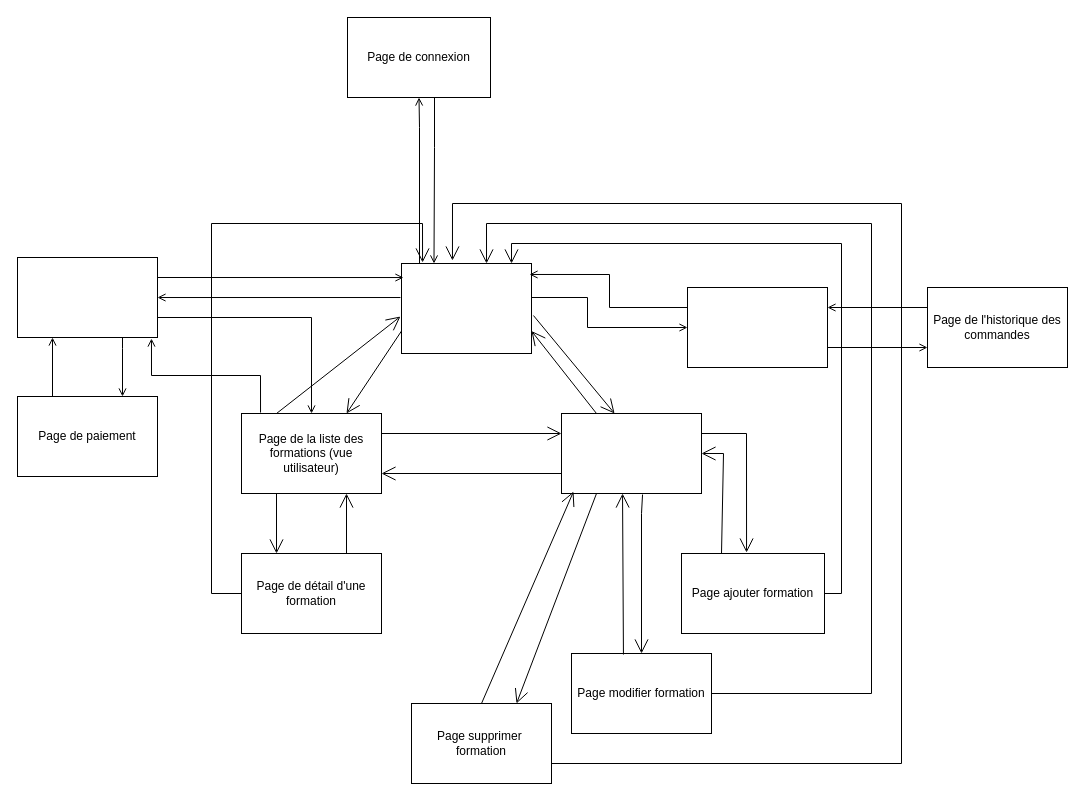
The diagram is 1085 pixels wide and 801 high, and some of its shapes have lost their labels. The centre of each missing label's shape, as x and y in pixels:
"Page d'accueil / de description de la mission" goes at point (466, 308).
"Page de la liste des formations (vue administrateur)" goes at point (631, 453).
"Page de profil" goes at point (757, 327).
"Page du panier" goes at point (87, 297).
